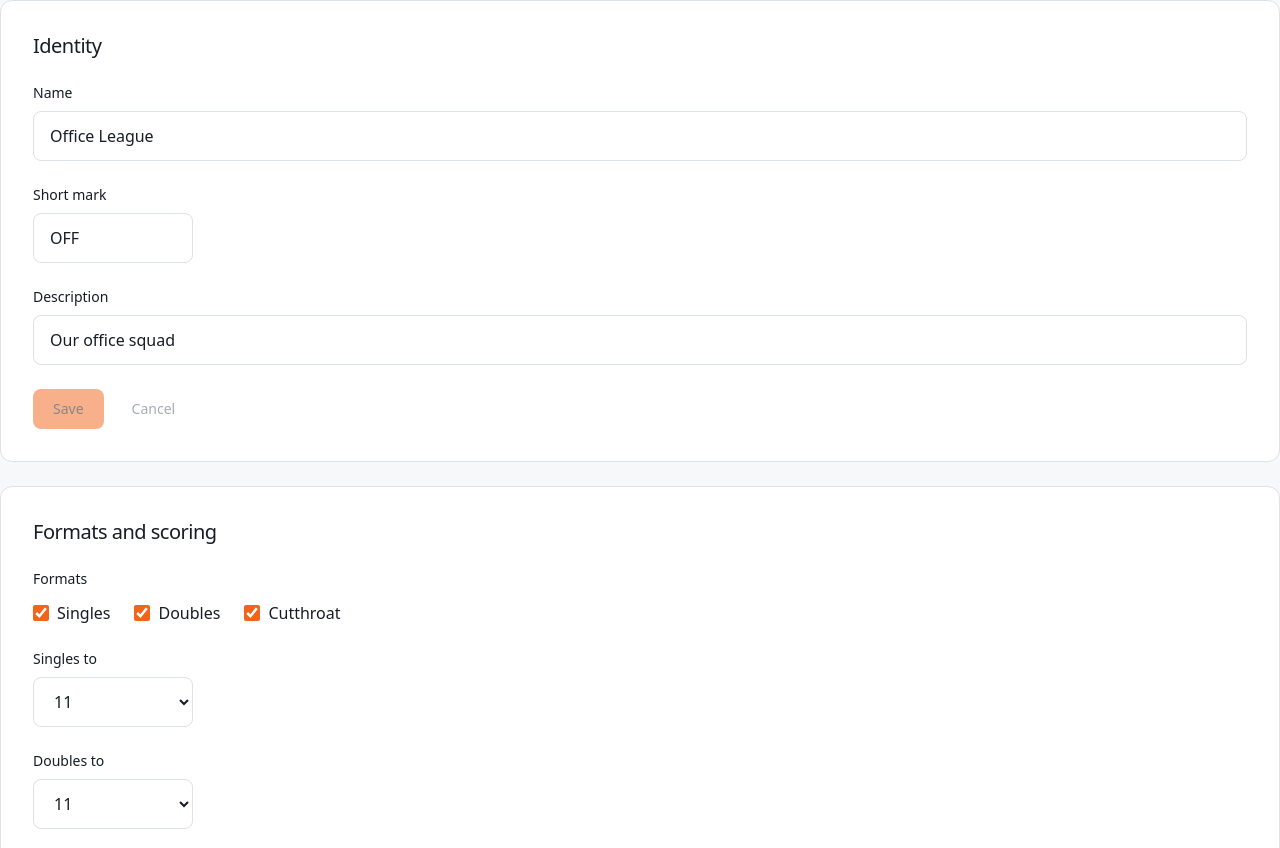
it: a write the session refused › settles the section rather than leaving it saving when the exit does not apply
Replace the text in the field with id "setting-name" with "Renamed": (640, 136) x1=33 y1=111 x2=1247 y2=161
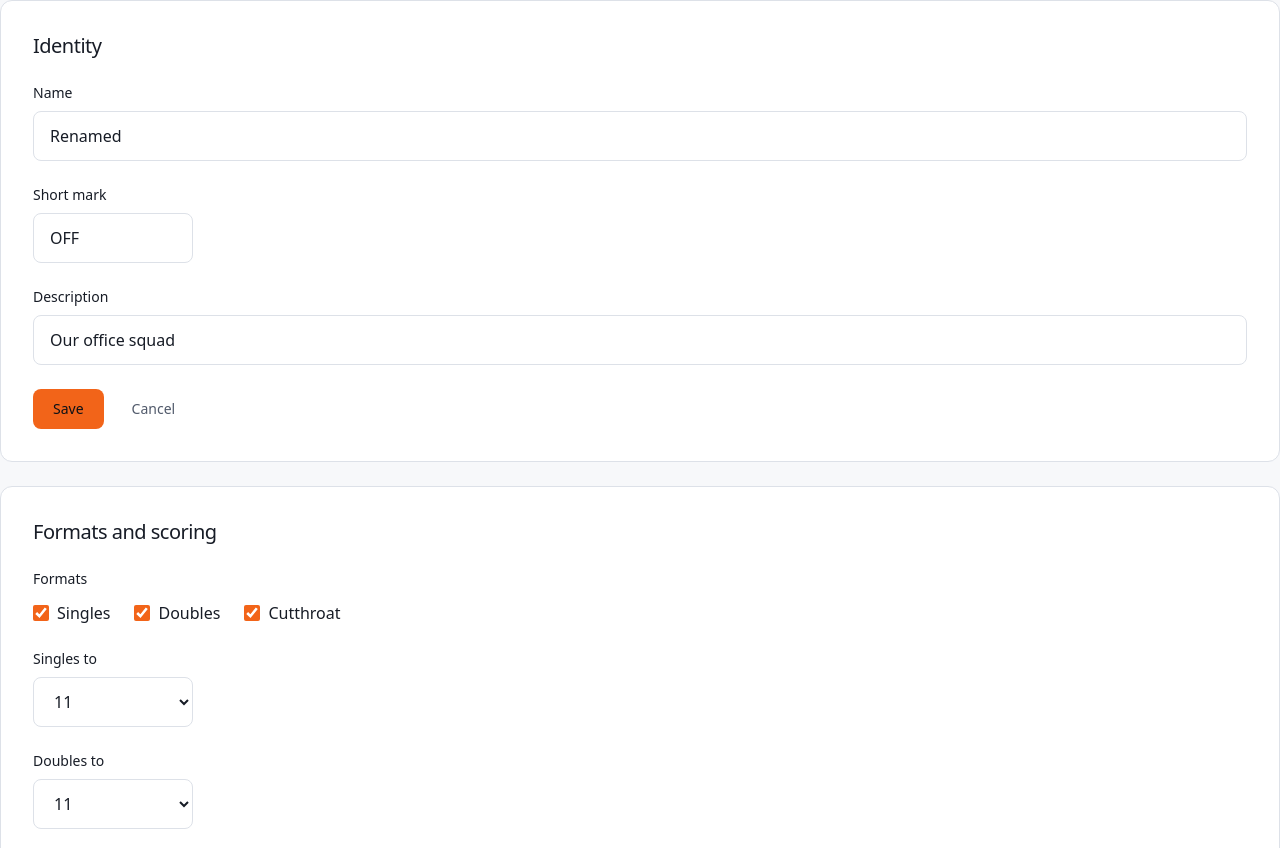
Click the button "Save": (68, 409) x1=33 y1=389 x2=104 y2=429
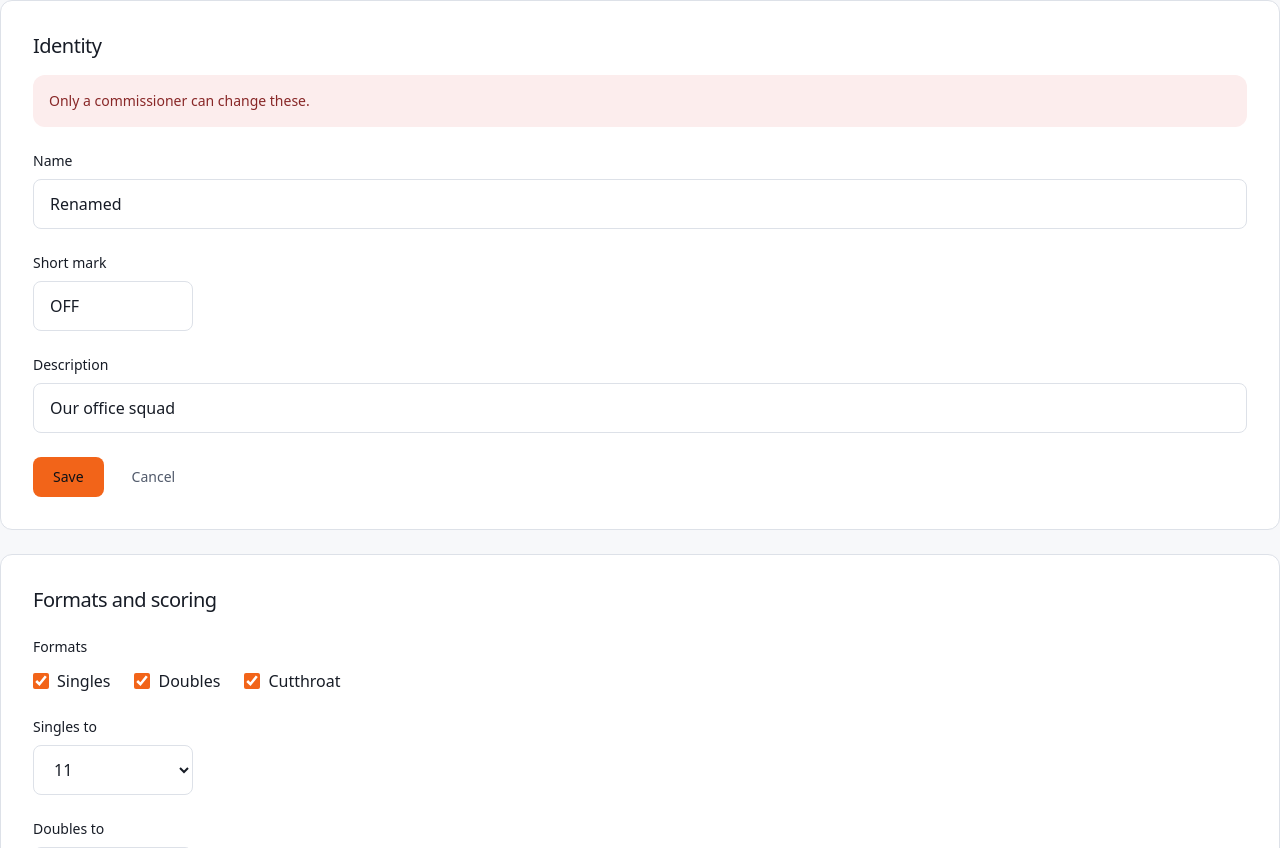
Check: the button "Save" is shown, box x1=33 y1=457 x2=104 y2=497
Check: the element that starts with "Identity" shows "Only a commissioner can change these.", box x1=49 y1=91 x2=310 y2=110
